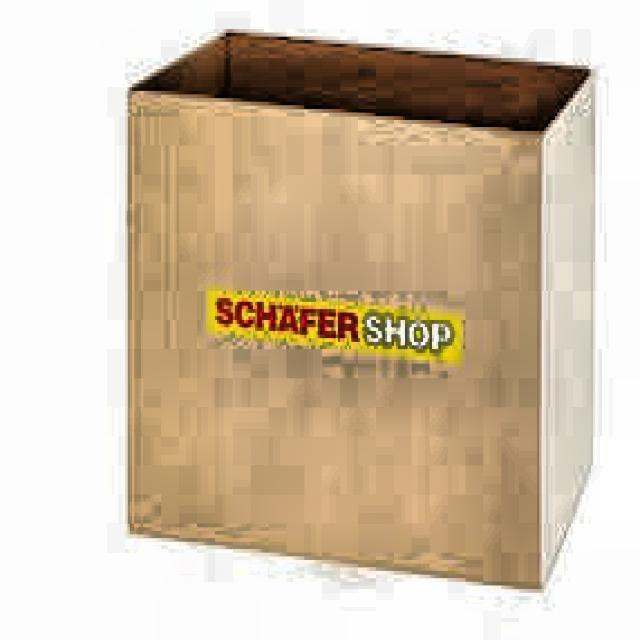cardboard: (125, 26, 596, 590)
